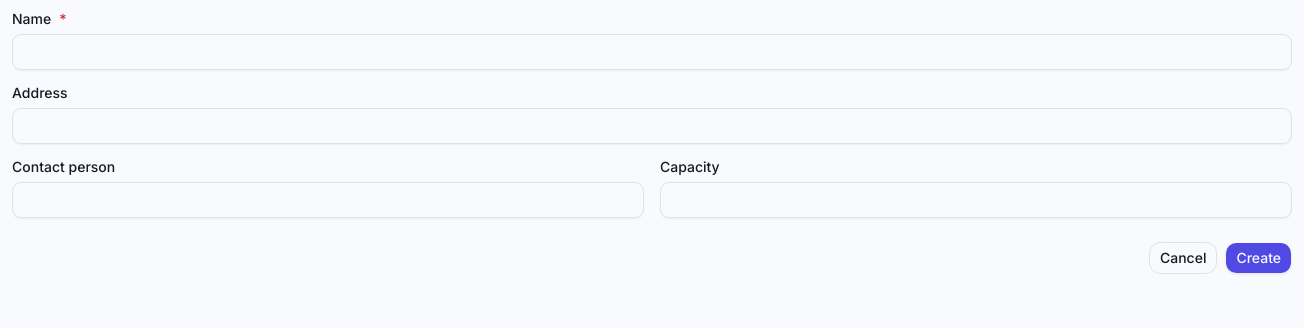
Test: WarehouseForm (create) › shows an error when create fails
Type "Bad Hub" into the field labelled "Name *".
click(652, 52); type("Bad Hub")  # box x1=12 y1=34 x2=1292 y2=70
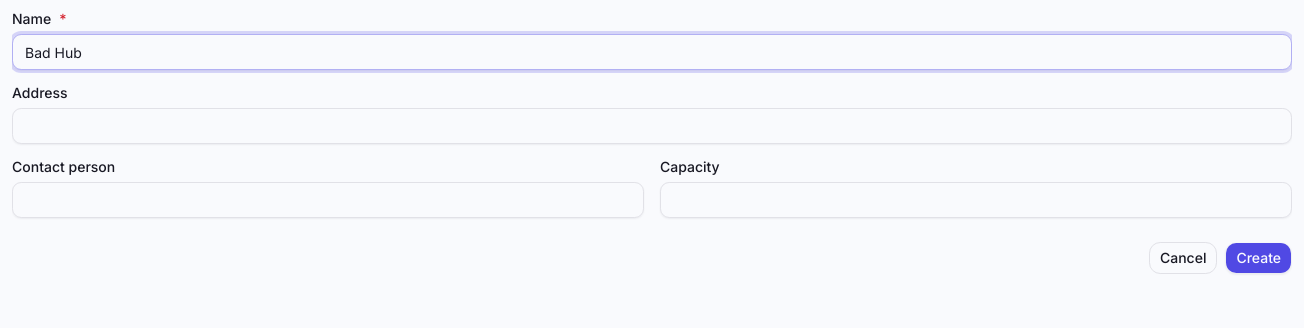
Click the button "Create".
click(1259, 258)  # box x1=1225 y1=242 x2=1292 y2=274
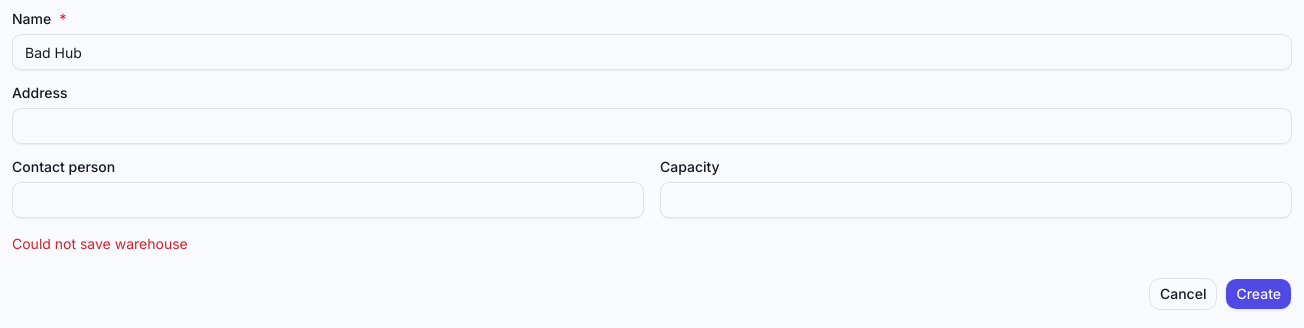
Expected: the message reads "Could not save warehouse", x1=12 y1=235 x2=188 y2=252
